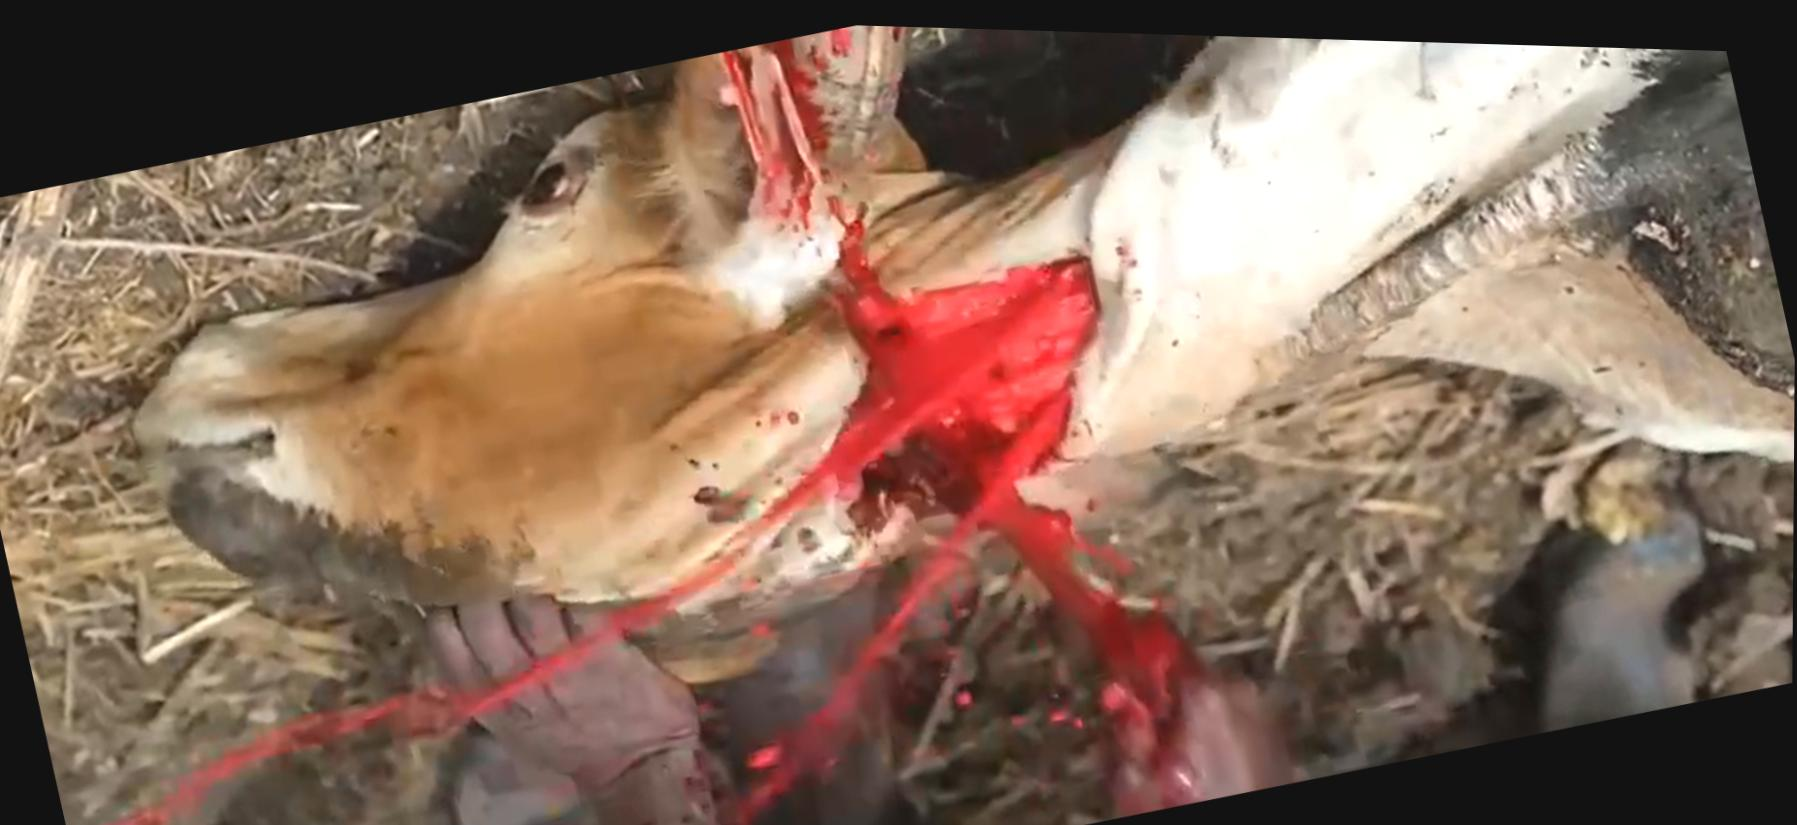Fire: (2, 229, 1211, 825)
